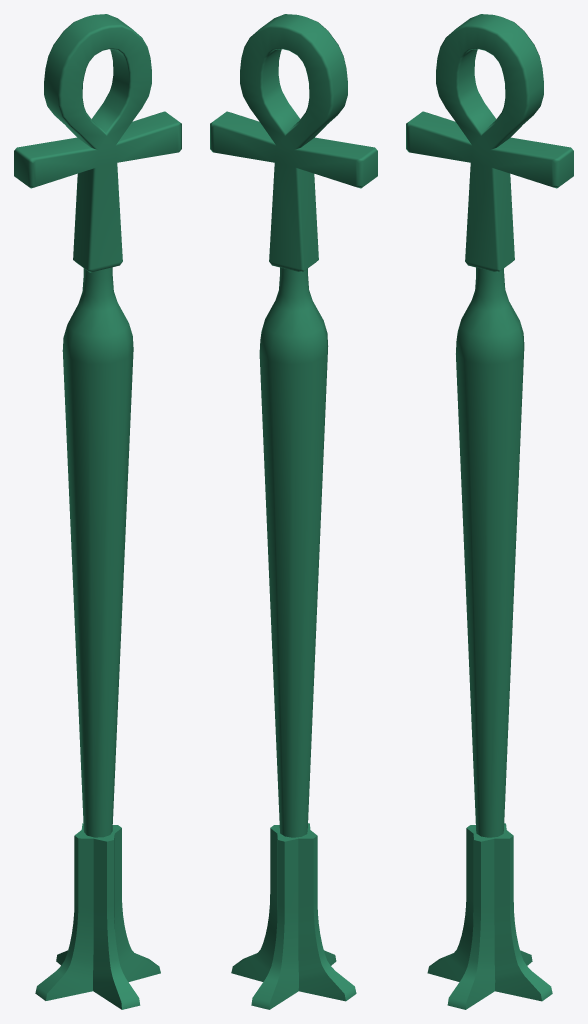
The model's file is Baston Laser.fbx.
3 views of the same model, side by side, from view 1: azimuth 30°, elevation 25°; view 2: azimuth 150°, elevation 25°; view 3: azimuth 330°, elevation 25° (orthographic).
Parts seen in each view (by area): view 1: WIP1; view 2: WIP1; view 3: WIP1.
Boxes of the visible parts, x1,y1,x2,y2 form: WIP1: (14,14,181,1009); WIP1: (210,14,377,1009); WIP1: (406,14,573,1009).
Size of the model in its own units: 3.71 by 22.18 by 2.77.
